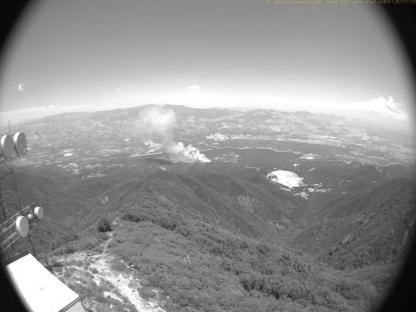smoke: (122, 100, 212, 164)
